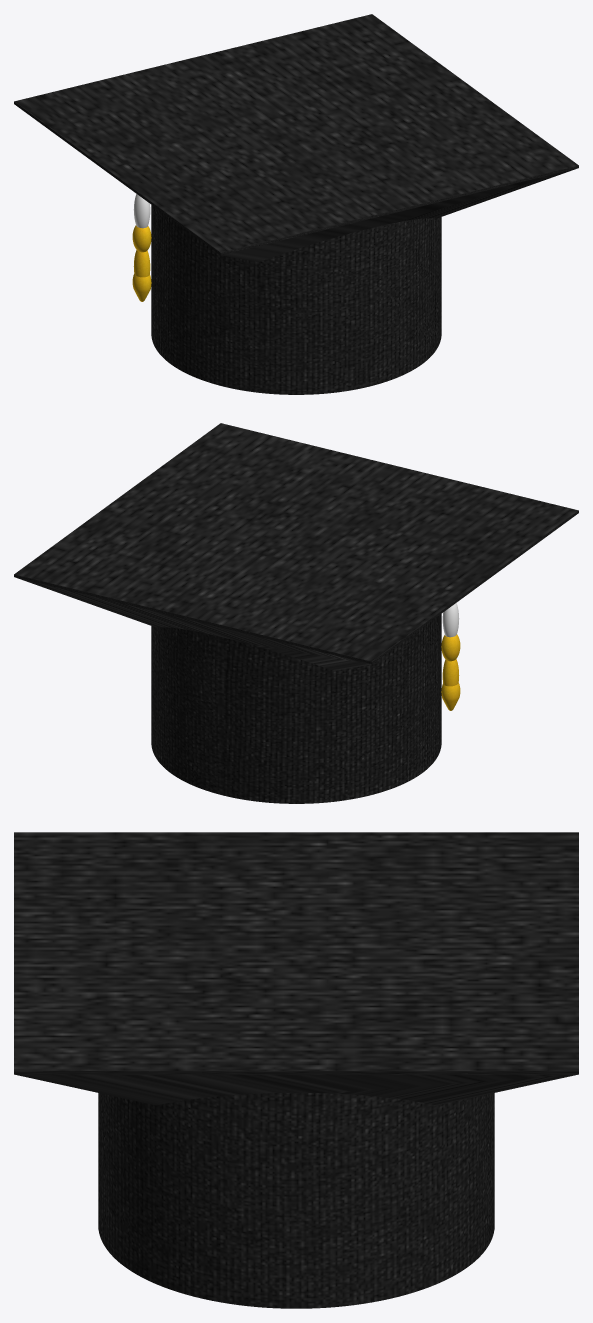
The model's file is school_hat.glb.
3 renders of one model, top to bottom at view 1: azimuth 30°, elevation 25°; view 2: azimuth 150°, elevation 25°; view 3: azimuth 270°, elevation 25°, orthographic. The views are drawn at different scales.
Parts seen in each view (by area): view 1: Cylinder_Material.001_0, Sphere.001_Material.002_0; view 2: Cylinder_Material.001_0, Sphere.001_Material.002_0; view 3: Cylinder_Material.001_0.
Boxes of the visible parts, left/top/right/bottom form: Cylinder_Material.001_0: left=14, top=14, right=578, bottom=394; Sphere.001_Material.002_0: left=132, top=225, right=151, bottom=301; Cylinder_Material.001_0: left=14, top=423, right=578, bottom=803; Sphere.001_Material.002_0: left=441, top=634, right=460, bottom=710; Cylinder_Material.001_0: left=14, top=832, right=578, bottom=1308.
Bounding box in the file's own units: 5.18 × 2.76 × 5.18.
4 materials, 3 textured.
